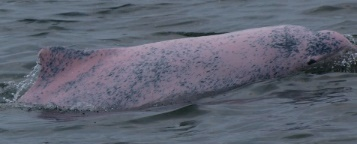fin: (15, 21, 354, 121)
